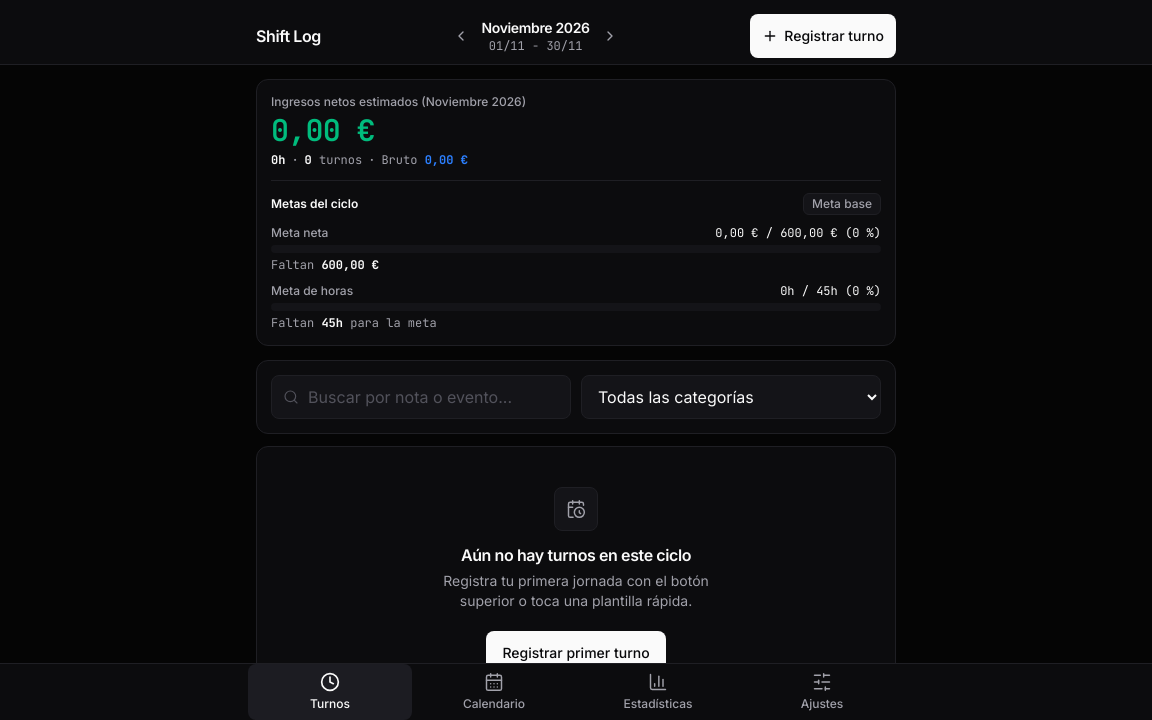
Test: App UI integration › starts without mock events and guides user from ShiftFormSheet to Ajustes when empty
The image size is (1152, 720).
Click the button "Registrar turno" at (823, 36), box x1=750 y1=14 x2=896 y2=58
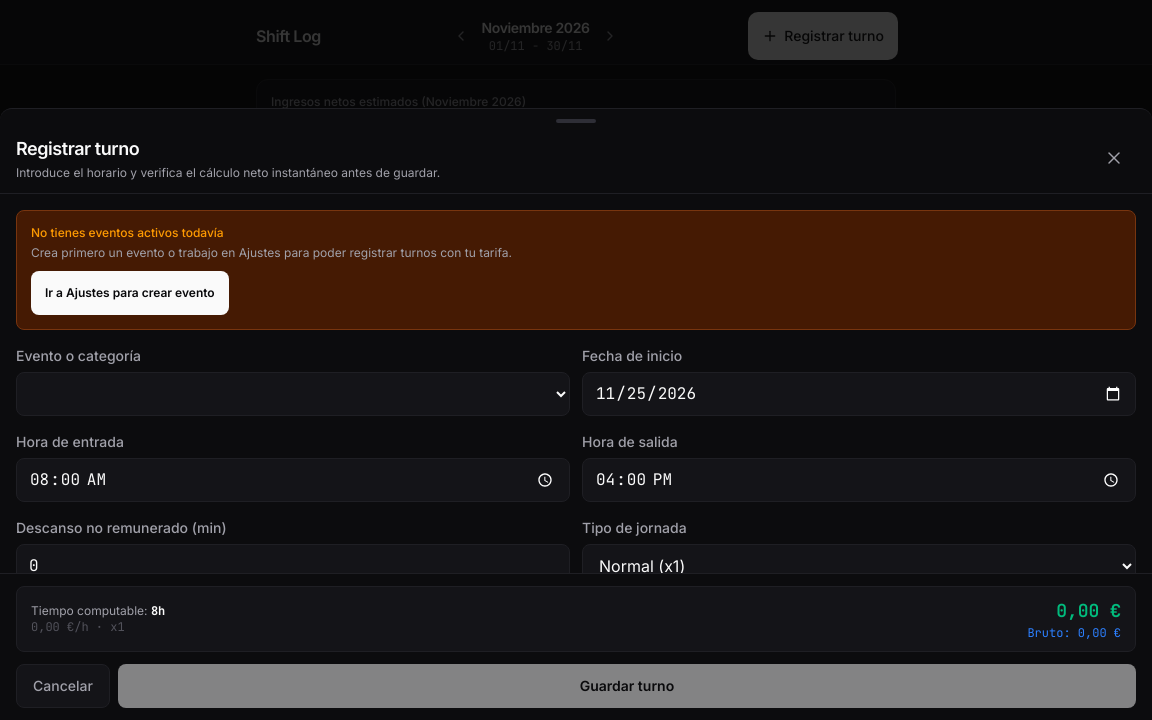
Now the text "No tienes eventos activos todavía" is shown, box x1=31 y1=225 x2=224 y2=240
Click the button "Ir a Ajustes para crear evento" at (130, 293), box x1=31 y1=271 x2=229 y2=315
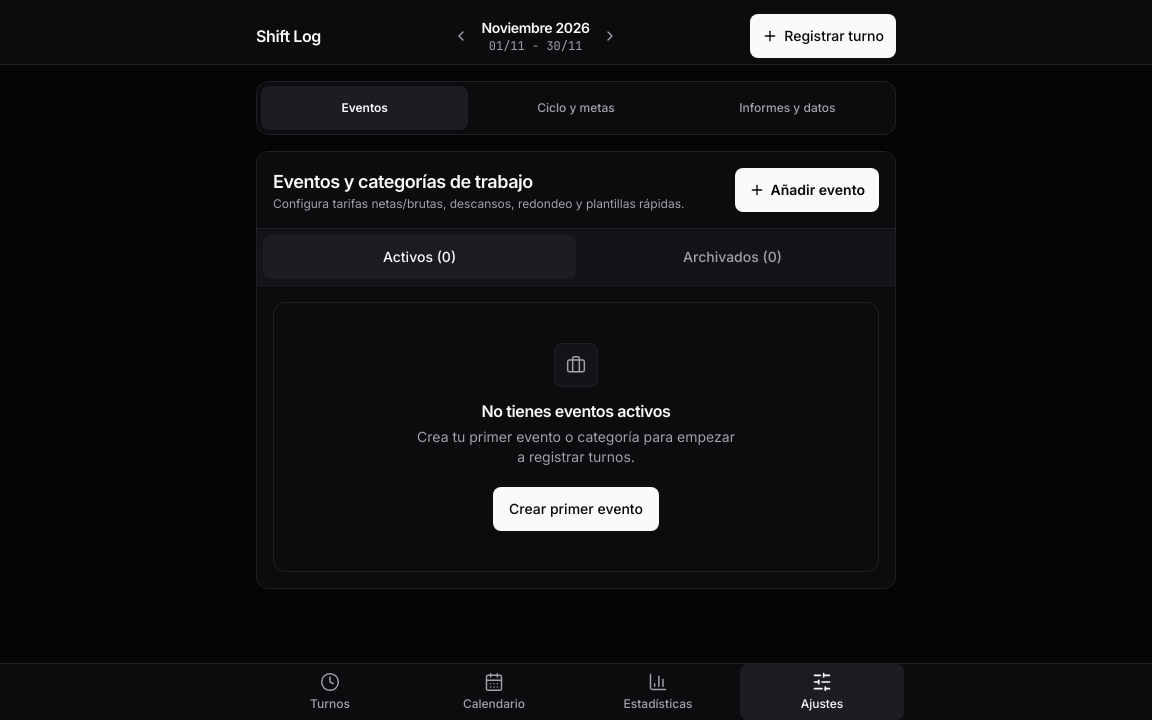
Now the heading "Eventos y categorías de trabajo" is shown, box x1=273 y1=171 x2=533 y2=192
